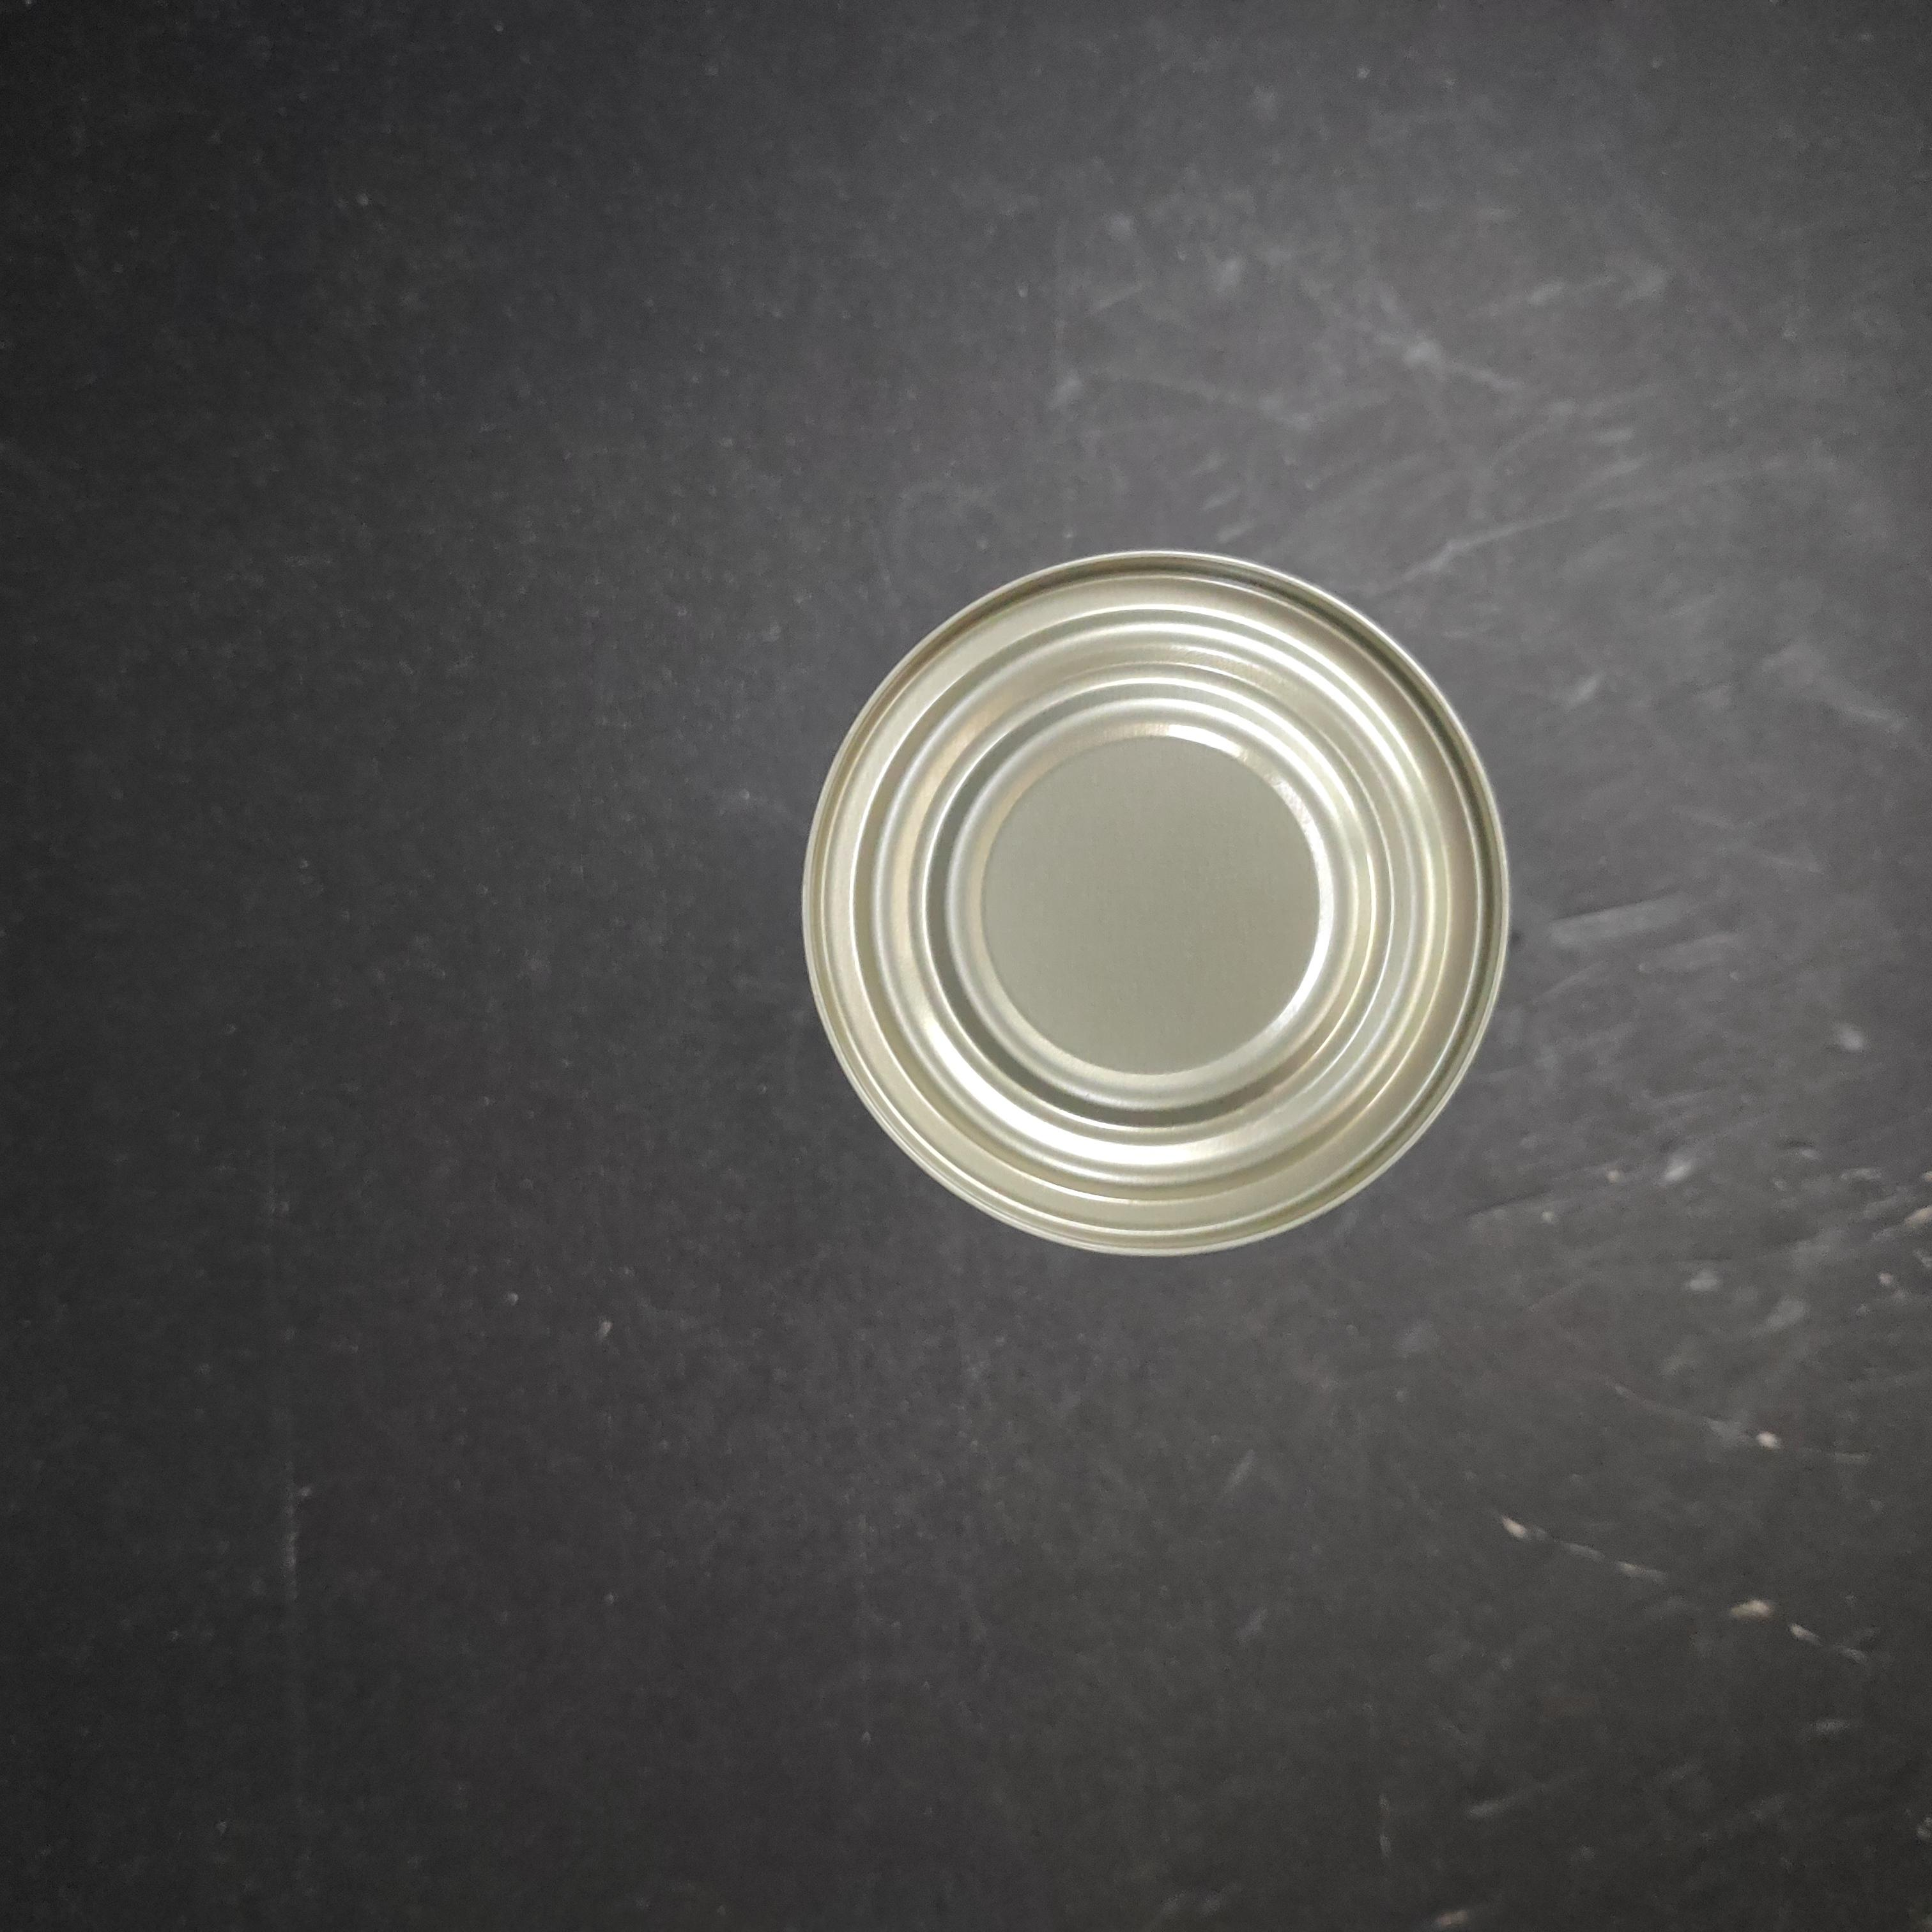No defect: (662, 793, 1392, 1522)
